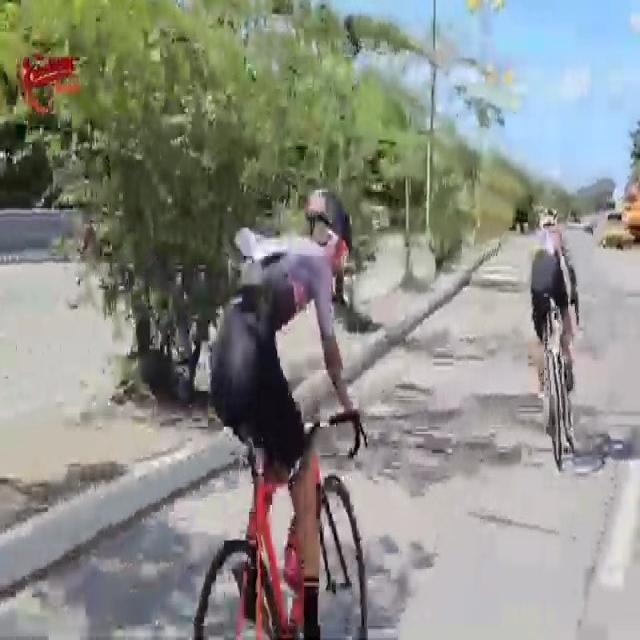bike: (195, 186, 372, 640), (526, 204, 584, 474)
